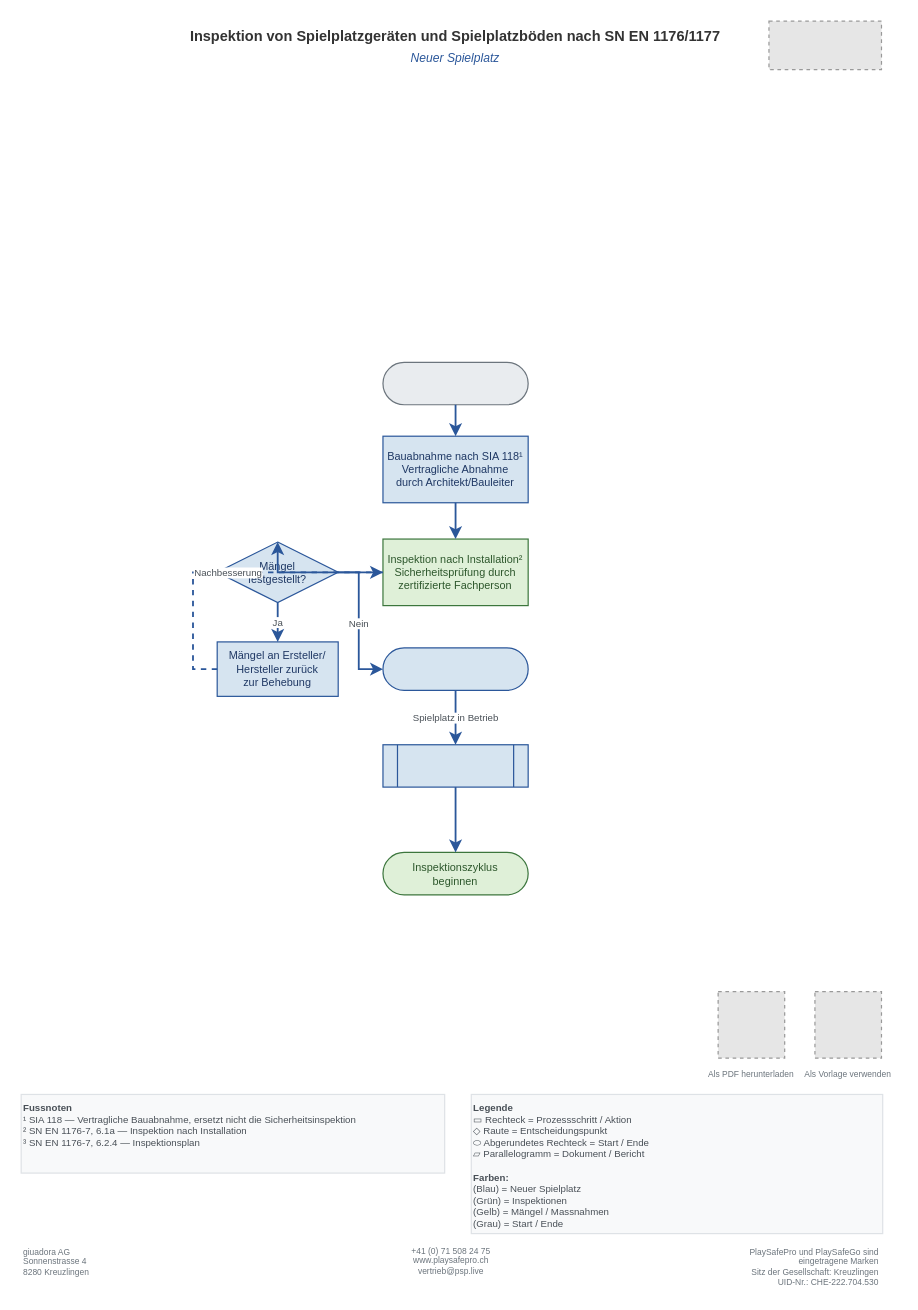
This 918x1310 diagram has some shape labels left out. Grey dashed boxes stand in for pictures. Here are the shapes that lost their labels. From the top down, the centre of each, then its label:
At (x=455, y=383): "Spielplatz-Inspektionen".
At (x=455, y=668): "Spielplatz eröffnen".
At (x=455, y=765): "Inspektionsplan erstellen³".
